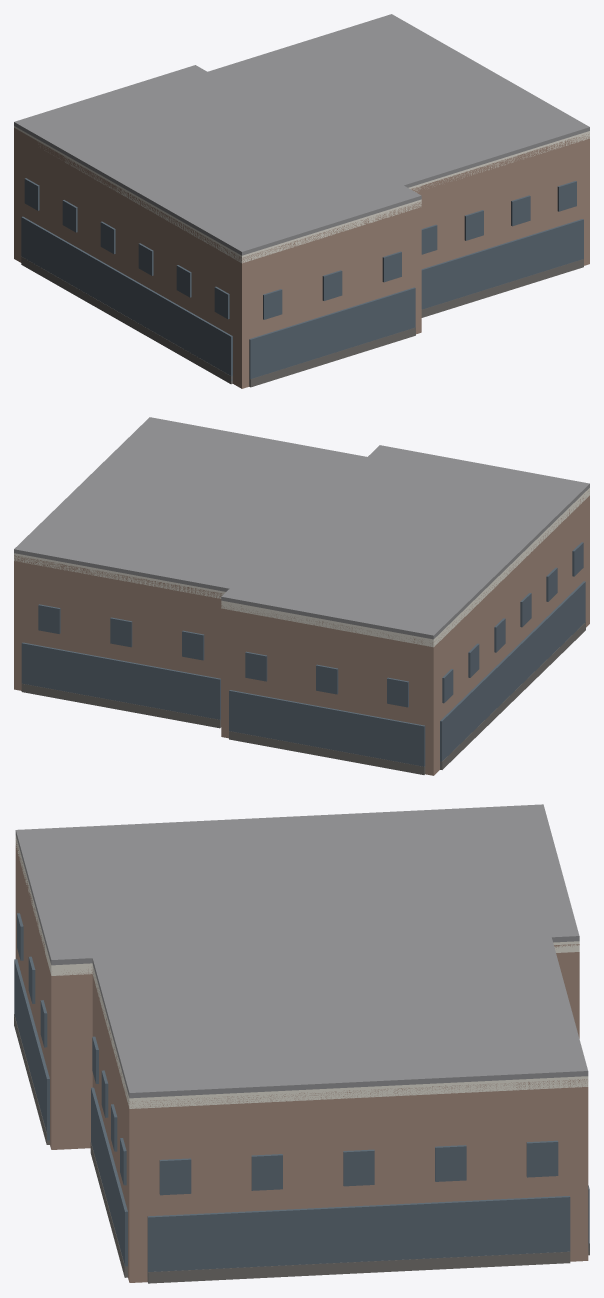
The model's file is s03_gis_248012_820742.glb.
The picture shows the model from 3 angles, top to bottom: view 1: azimuth 30°, elevation 25°; view 2: azimuth 150°, elevation 25°; view 3: azimuth 270°, elevation 25°; orthographic projection. The views are drawn at different scales.
Parts seen in each view (by area): view 1: roofcap, mass, store_2, store_3, store_5, cornice, bulk_2, bulk_3, bulk_5, win_3_0_1, win_3_0_2, win_5_0_2 (+3 smaller); view 2: roofcap, mass, store_7, store_1, store_2, cornice, bulk_7, bulk_1, bulk_2, win_7_0_1, win_7_0_2, win_7_0_0 (+3 smaller); view 3: roofcap, mass, store_6, cornice, bulk_6, store_5, store_3, win_6_0_0, win_6_0_4, win_6_0_1, win_6_0_2, win_6_0_3.
Boxes of the visible parts, x1,y1,x2,y2 form: roofcap: [14, 14, 589, 255]; mass: [14, 128, 589, 388]; store_2: [21, 216, 232, 380]; store_3: [249, 287, 415, 383]; store_5: [421, 219, 583, 309]; cornice: [14, 126, 589, 263]; bulk_2: [21, 256, 232, 384]; bulk_3: [249, 327, 415, 387]; bulk_5: [421, 259, 583, 317]; win_3_0_1: [322, 270, 342, 300]; win_3_0_2: [382, 251, 401, 282]; win_5_0_2: [511, 195, 530, 226]; roofcap: [14, 417, 589, 639]; mass: [14, 491, 589, 775]; store_7: [21, 642, 220, 719]; store_1: [229, 690, 425, 766]; store_2: [440, 581, 585, 766]; cornice: [14, 488, 589, 647]; bulk_7: [21, 683, 220, 728]; bulk_1: [229, 731, 425, 774]; bulk_2: [440, 622, 585, 769]; win_7_0_1: [110, 617, 132, 647]; win_7_0_2: [182, 630, 204, 660]; win_7_0_0: [38, 604, 60, 633]; roofcap: [15, 804, 588, 1098]; mass: [15, 841, 588, 1282]; store_6: [147, 1196, 570, 1277]; cornice: [15, 835, 588, 1108]; bulk_6: [147, 1251, 570, 1283]; store_5: [91, 1087, 127, 1270]; store_3: [14, 959, 49, 1140]; win_6_0_0: [159, 1158, 191, 1195]; win_6_0_4: [526, 1140, 558, 1177]; win_6_0_1: [251, 1154, 282, 1190]; win_6_0_2: [343, 1149, 374, 1186]; win_6_0_3: [435, 1145, 466, 1181].
Bounding box in the file's own units: 27.29 × 8.35 × 22.94.
